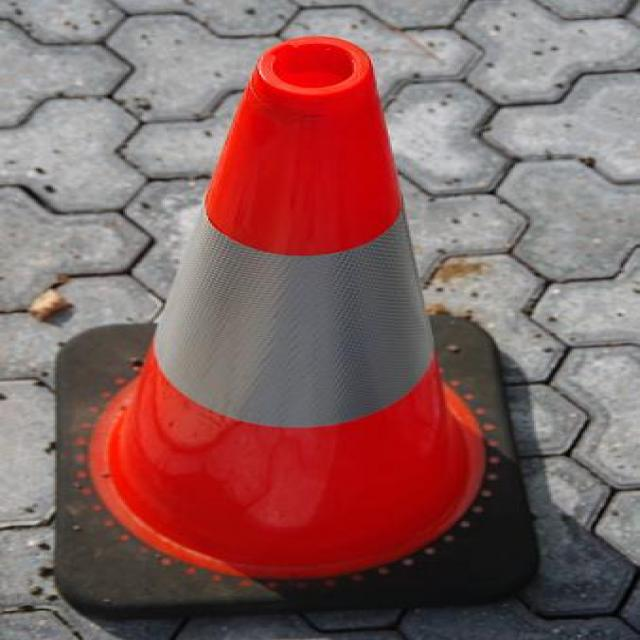Cone: (49, 34, 553, 615)
